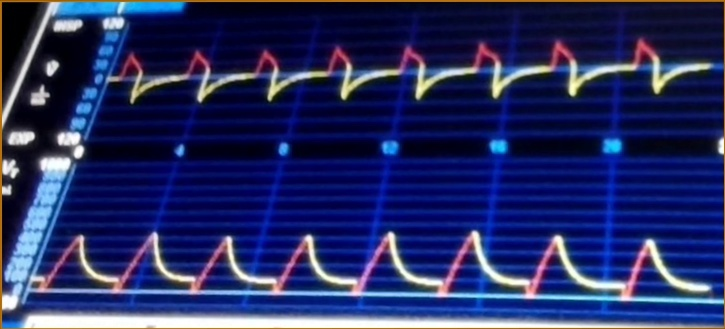Flow: (118, 26, 711, 132)
Leakage Volume: (56, 195, 710, 312)
